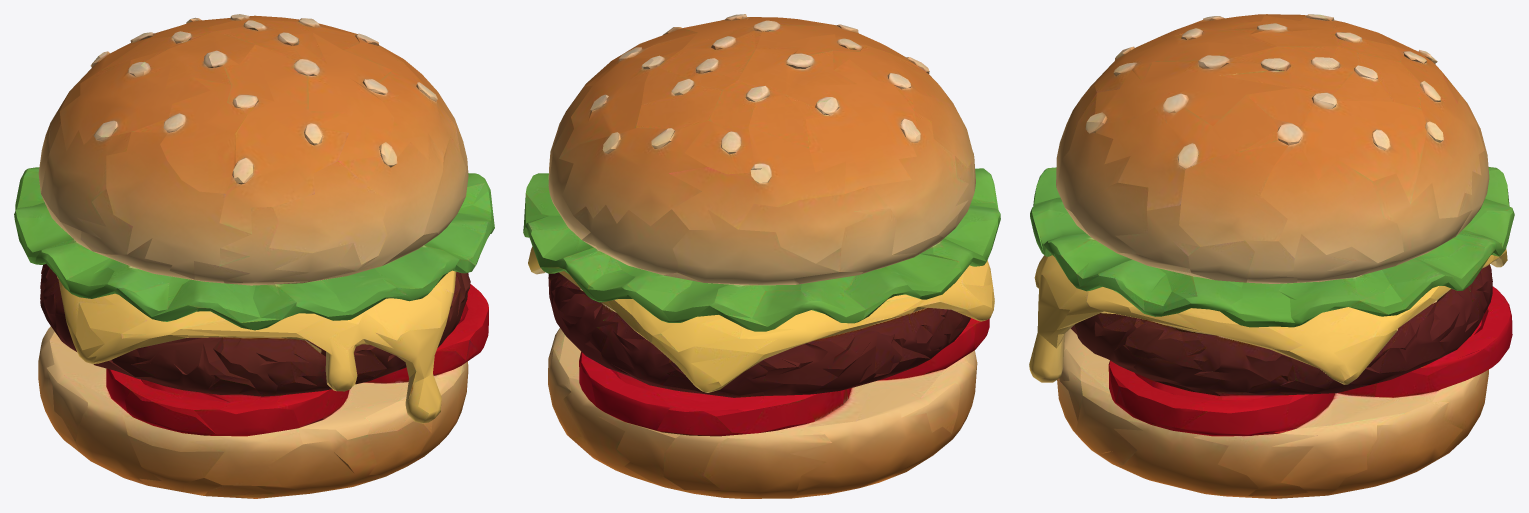
The model's file is outfit_burger.fbx.
3 views of the same model, side by side, from view 1: azimuth 30°, elevation 25°; view 2: azimuth 150°, elevation 25°; view 3: azimuth 270°, elevation 25° (orthographic).
Parts seen in each view (by area): view 1: Mesh_0; view 2: Mesh_0; view 3: Mesh_0.
Part boxes in pixels (left/top/right/bottom): Mesh_0: left=14, top=14, right=494, bottom=498; Mesh_0: left=523, top=14, right=1000, bottom=498; Mesh_0: left=1029, top=14, right=1514, bottom=498.
Bounding box in the file's own units: 1.9 × 1.62 × 1.9.
Materials: 1 (1 with a texture image).
